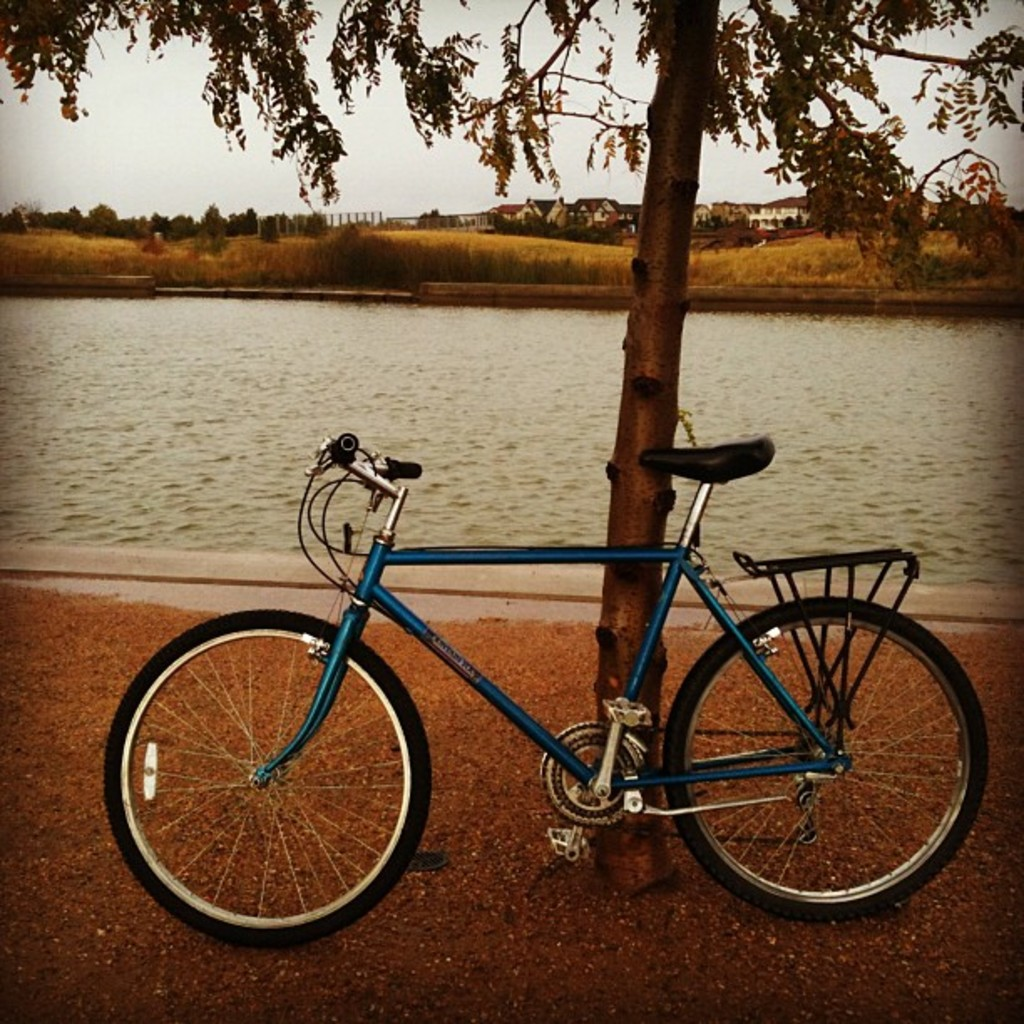Bike: (186, 397, 848, 899)
